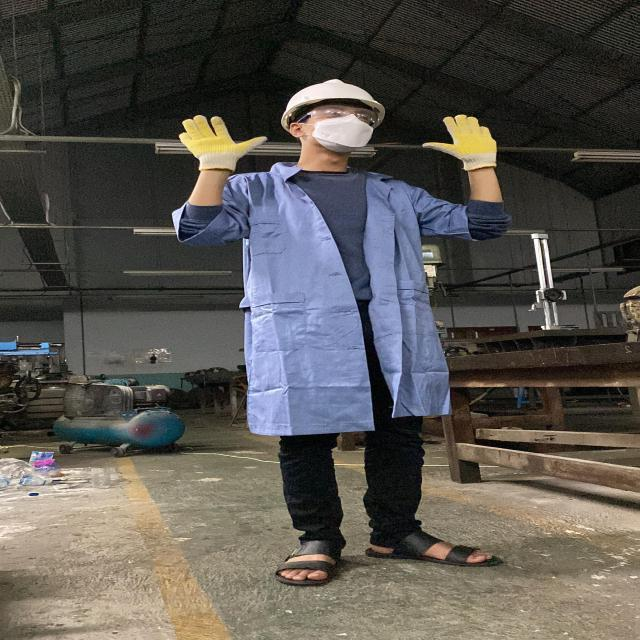gloves: (420, 111, 500, 178), (176, 116, 266, 172)
helmet: (278, 74, 388, 120)
